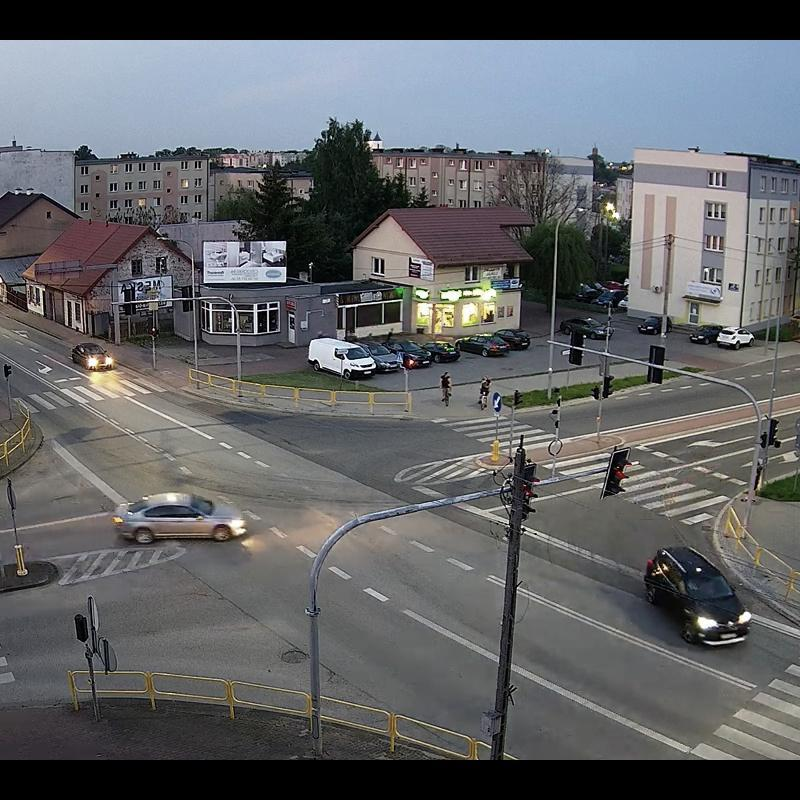biker: (793, 341, 800, 364), (793, 363, 800, 386)
car: (641, 543, 755, 649), (117, 490, 250, 544), (308, 335, 376, 382), (384, 335, 432, 374), (72, 340, 113, 372), (716, 323, 758, 352), (560, 318, 614, 340), (482, 328, 530, 350), (687, 324, 726, 347), (424, 342, 461, 364), (636, 316, 672, 338), (789, 327, 800, 349)
cyclist: (439, 372, 456, 408), (475, 375, 492, 411)
